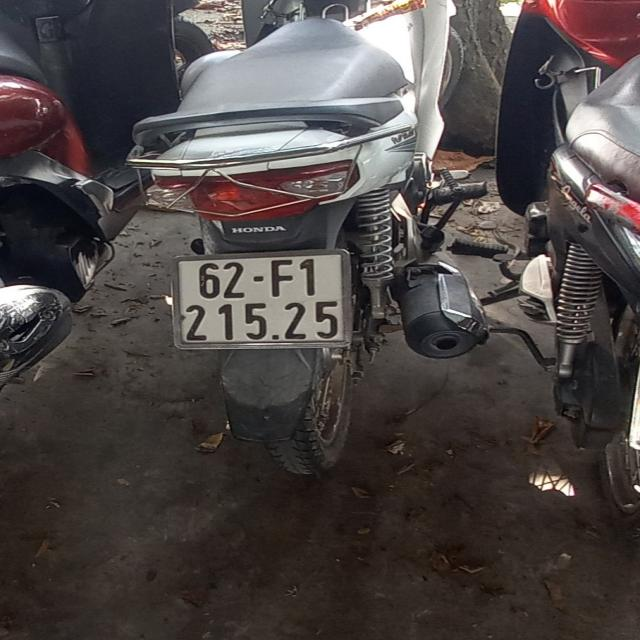1: (215, 302, 238, 343), (298, 255, 318, 297)
2: (282, 301, 314, 340), (219, 261, 245, 300), (185, 302, 209, 342)
5: (312, 298, 339, 340), (242, 301, 269, 342)
6: (196, 262, 221, 302)
F: (270, 258, 296, 298)
